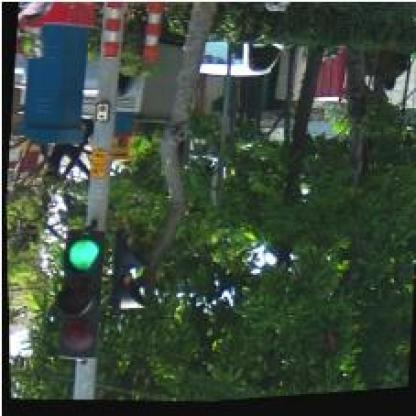green: (50, 227, 104, 363)
